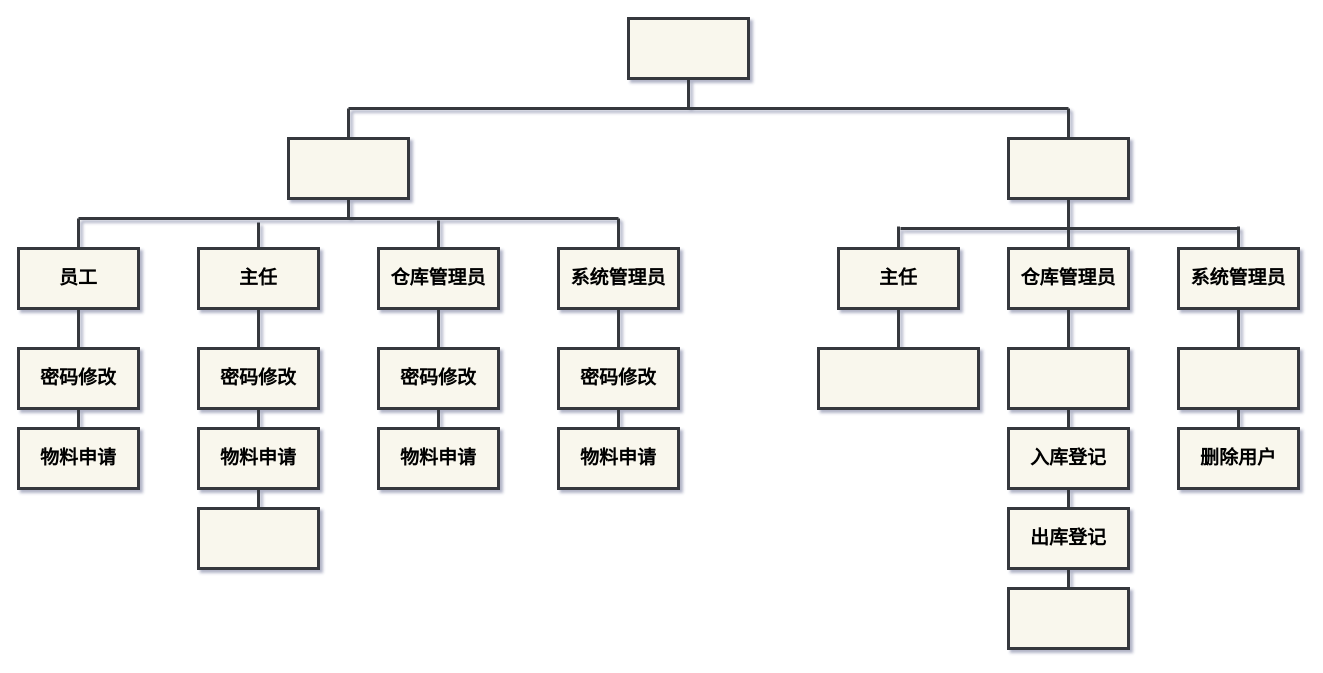
The diagram is 1323 pixels wide and 673 high, and some of its shapes have lost their labels. Each missing label, with the centre of its shape:
"前台" goes at (x=348, y=168).
"后台" goes at (x=1068, y=168).
"查询库存记录" goes at (x=1068, y=618).
"查询物料出入记录" goes at (x=898, y=378).
"添加商品" goes at (x=1068, y=378).
"添加用户" goes at (x=1238, y=378).
"物料审批" goes at (x=258, y=538).
"物料管理系统" goes at (x=688, y=48).
